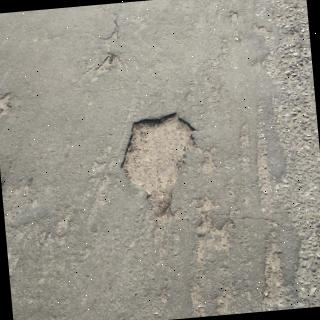pothole: (122, 113, 196, 218)
